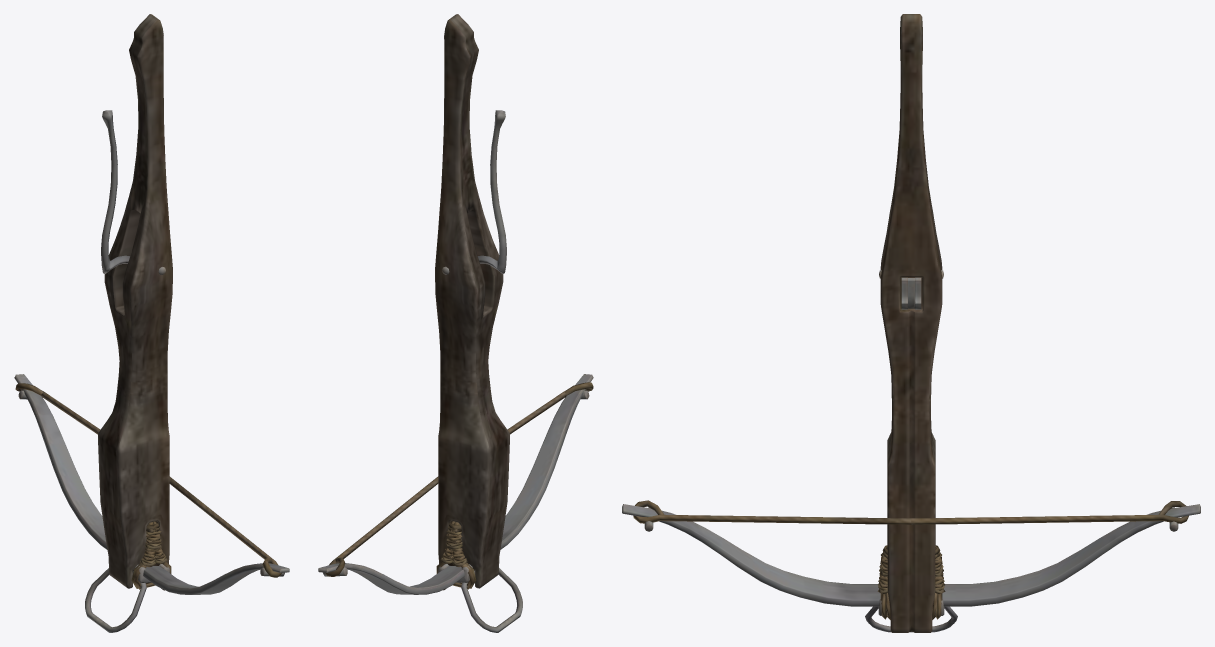
Rendered from weapon-wp_a_1501.glb.
3 renders of one model, left to right at view 1: azimuth 30°, elevation 25°; view 2: azimuth 150°, elevation 25°; view 3: azimuth 270°, elevation 25°, orthographic. The views are drawn at different scales.
Visible parts, largest first — view 1: wp_a_1501_mesh; view 2: wp_a_1501_mesh; view 3: wp_a_1501_mesh.
Boxes of the visible parts, box(x1,y1,x2,y2) form: wp_a_1501_mesh: box(14, 14, 289, 632); wp_a_1501_mesh: box(318, 14, 593, 632); wp_a_1501_mesh: box(622, 14, 1200, 632).
Size of the model in its own units: 0.1087 by 0.8833 by 0.7174.
2 materials, 2 textured.
